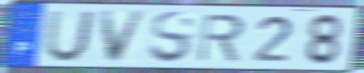2: (251, 15, 295, 64)
8: (305, 12, 346, 67)
R: (196, 12, 247, 64)
S: (147, 10, 197, 66)
U: (43, 9, 97, 64)
V: (98, 9, 150, 65)
